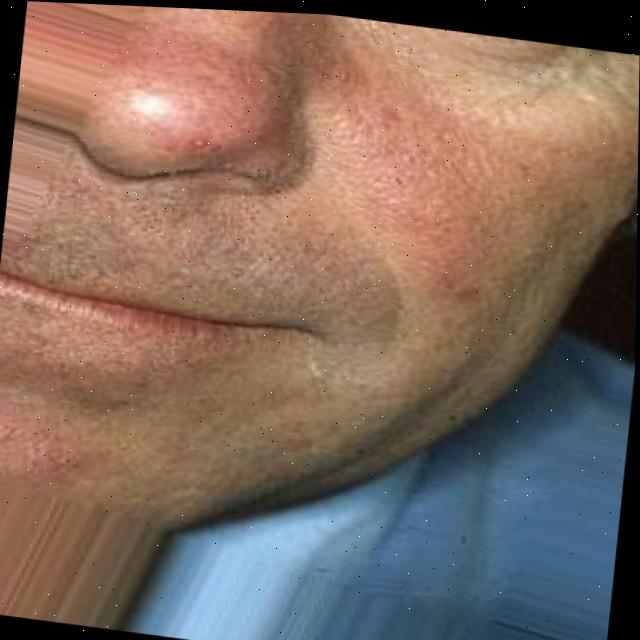Rosacea: (318, 53, 486, 272), (0, 412, 81, 462)
